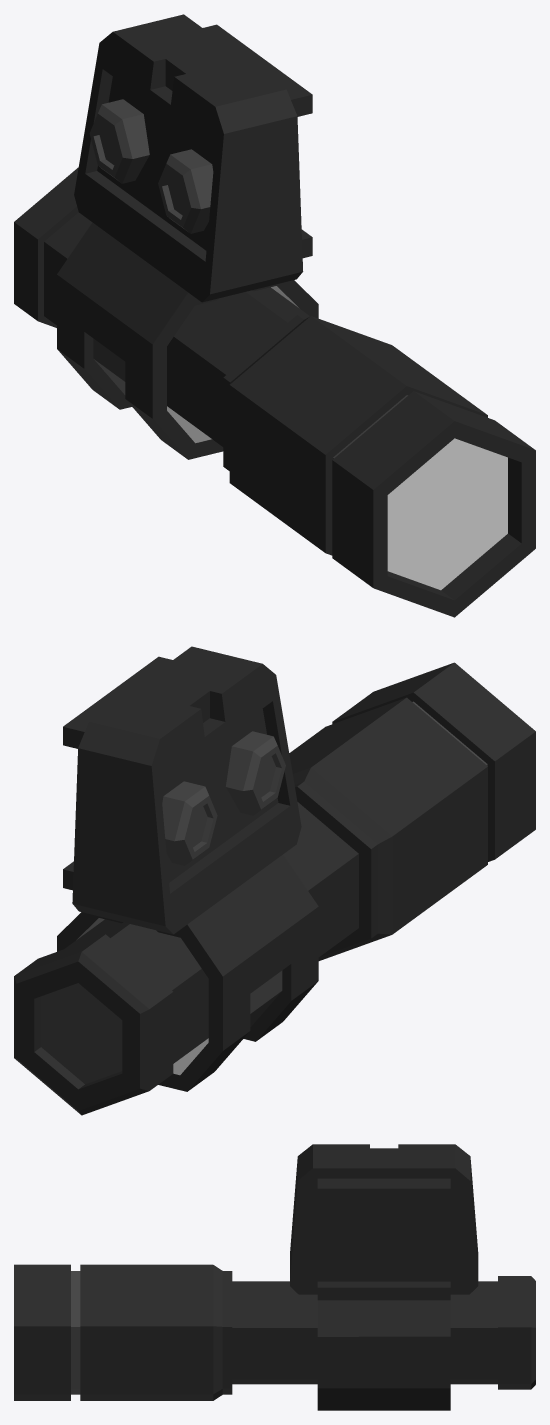
The model's file is Light_B_Right.fbx.
3 views of the same model, one above another, from view 1: azimuth 30°, elevation 25°; view 2: azimuth 150°, elevation 25°; view 3: azimuth 270°, elevation 25° (orthographic). The views are drawn at different scales.
Parts seen in each view (by area): view 1: Light_B_Right, Light_B_Right_Part; view 2: Light_B_Right, Light_B_Right_Part; view 3: Light_B_Right, Light_B_Right_Part.
Boxes of the visible parts, x1,y1,x2,y2 form: Light_B_Right: [14, 167, 535, 617]; Light_B_Right_Part: [57, 14, 318, 459]; Light_B_Right: [14, 662, 535, 1115]; Light_B_Right_Part: [57, 646, 318, 1091]; Light_B_Right: [14, 1264, 535, 1400]; Light_B_Right_Part: [290, 1144, 478, 1410].
Size of the model in its own units: 0.035 by 0.0723 by 0.1375.
